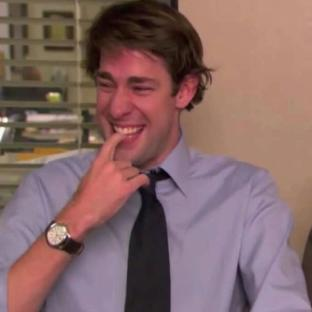Human: (1, 0, 312, 311)
